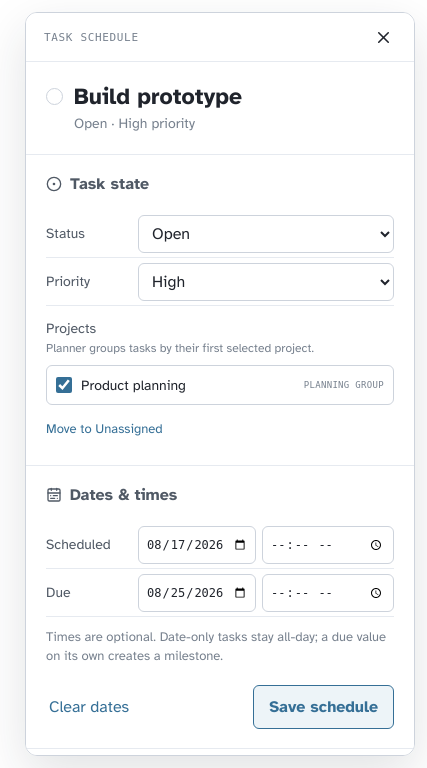
Scenario: TaskInspector › does not save a reverse date range
Type "2026-08-30" into the date field named "Scheduled" at (197, 545), box [138, 526, 256, 564]
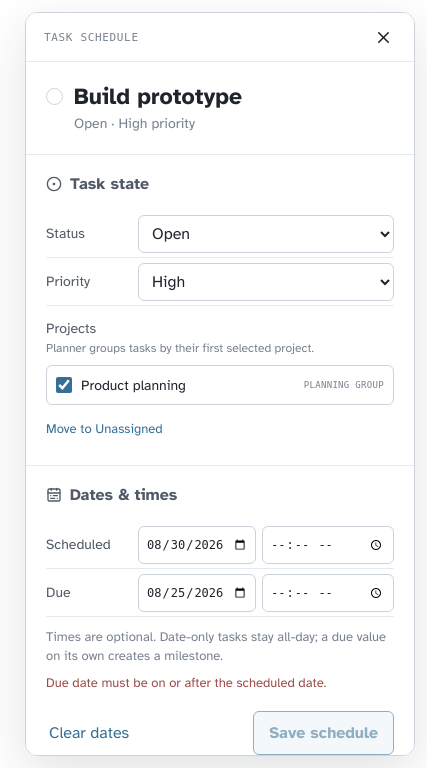
Now the message reads "Due date must be on or after the scheduled date.", box [46, 675, 326, 691]
Now the button "Save schedule" is disabled, box [253, 711, 394, 755]
